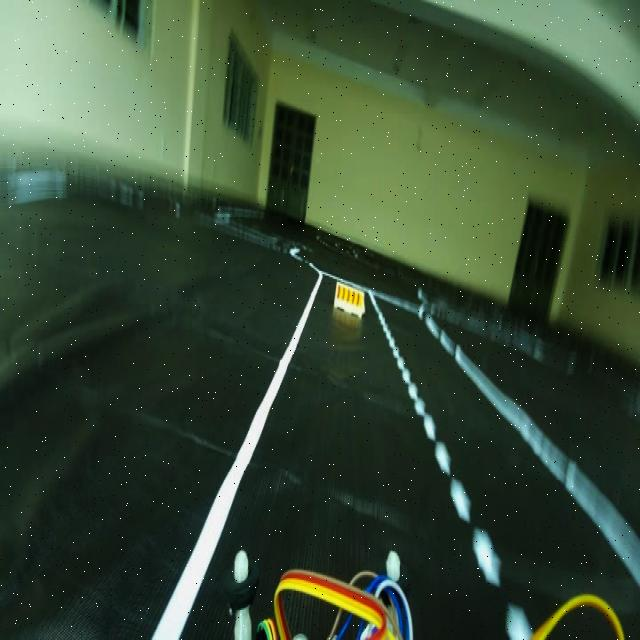roadblock: (329, 267, 370, 329)
